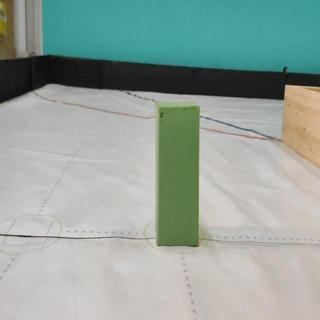greenbox: (155, 100, 202, 247)
